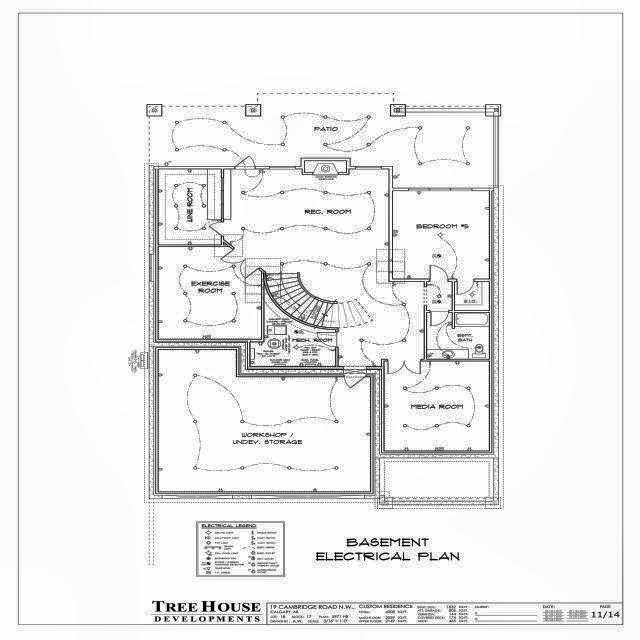room: (158, 350, 370, 492), (158, 247, 261, 339), (384, 361, 489, 451), (393, 191, 489, 279), (250, 284, 335, 366), (158, 169, 221, 245), (427, 313, 489, 359), (455, 282, 489, 310), (427, 282, 452, 311)
